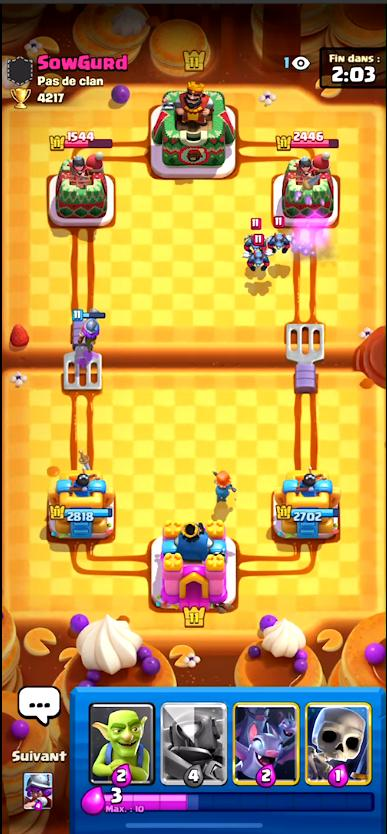gargouille: (268, 218, 289, 251), (243, 217, 264, 248), (252, 238, 268, 271)
mousquetaire: (72, 308, 105, 351)
valkyrie: (210, 468, 235, 504)
